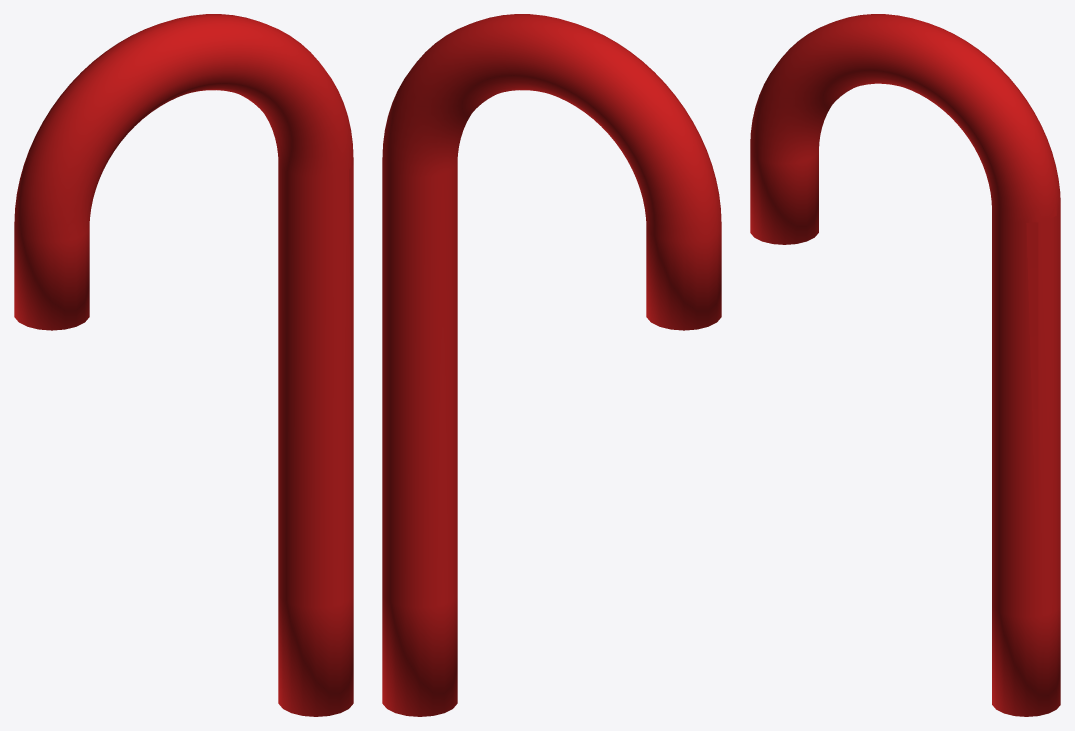
The model's file is stick.obj.
3 views of the same model, side by side, from view 1: azimuth 30°, elevation 25°; view 2: azimuth 150°, elevation 25°; view 3: azimuth 330°, elevation 25° (orthographic). The views are drawn at different scales.
Parts seen in each view (by area): view 1: default; view 2: default; view 3: default.
Boxes of the visible parts, box(x1,y1,x2,y2) form: default: box(14, 14, 353, 716); default: box(382, 14, 721, 716); default: box(750, 14, 1060, 716).
Bounding box in the file's own units: 2.5 × 5.15 × 0.4924.
